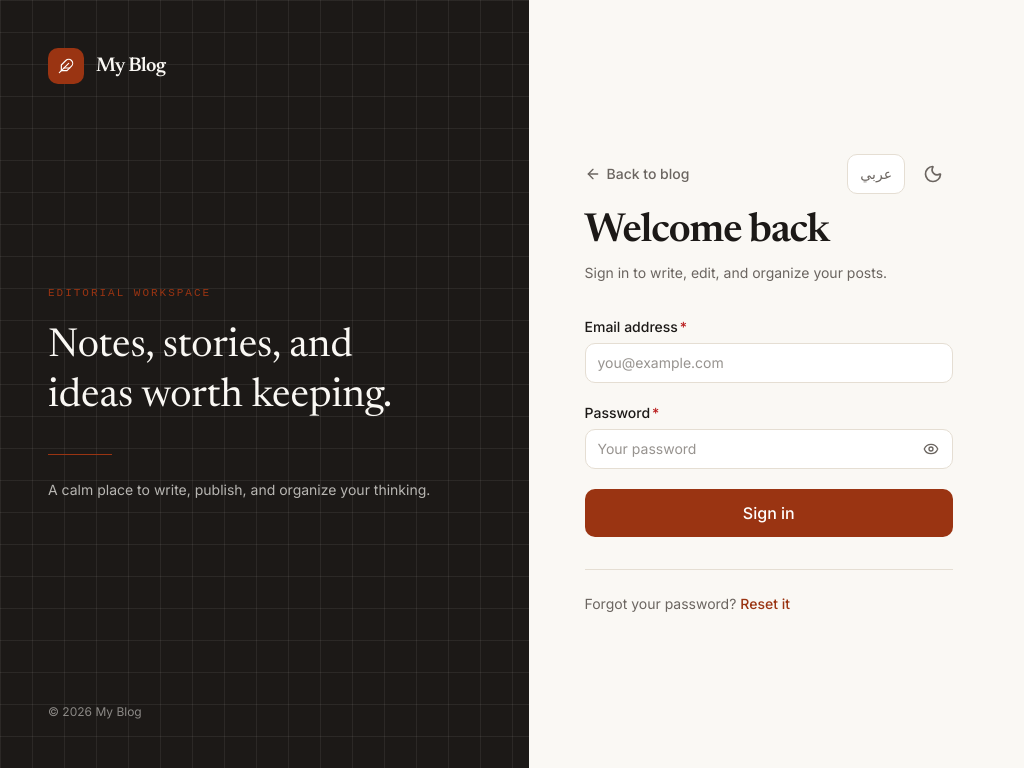
it: Login › shows a generic error and stays on the page when credentials are rejected
This screenshot has width=1024, height=768.
Step 1. Type "writer@example.test" into the field labelled "Email address*" → (769, 363), box [584,343,953,383]
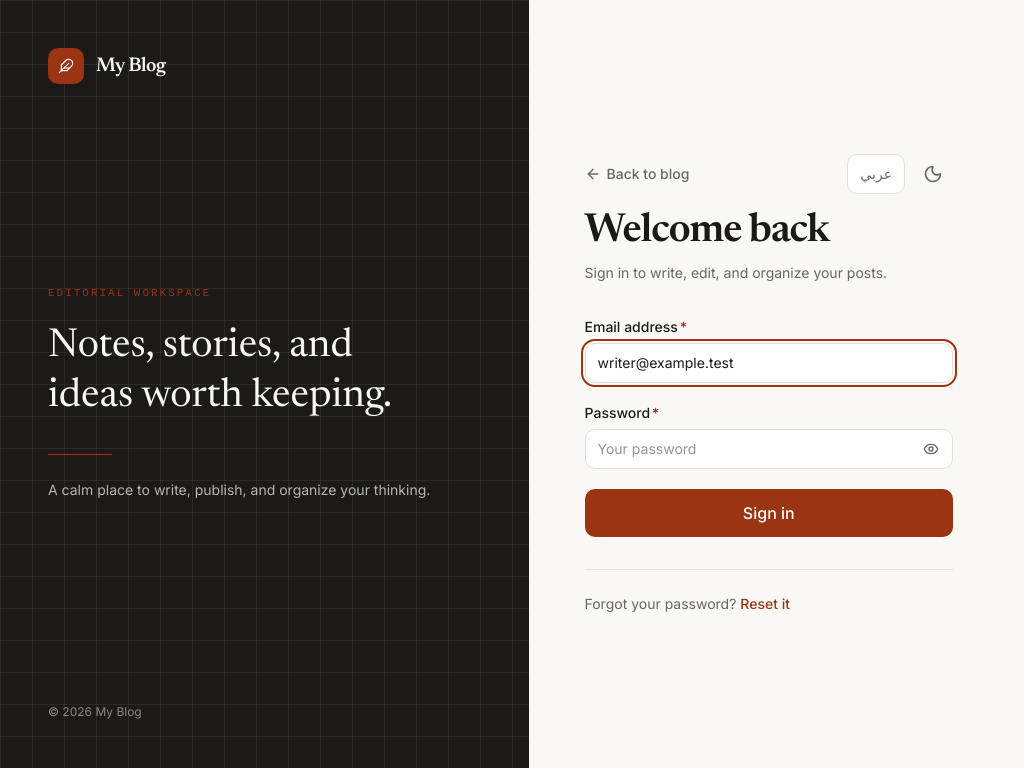
Step 2. Type "secret-password" into the password field labelled "Password*" → (769, 449), box [584,429,953,469]
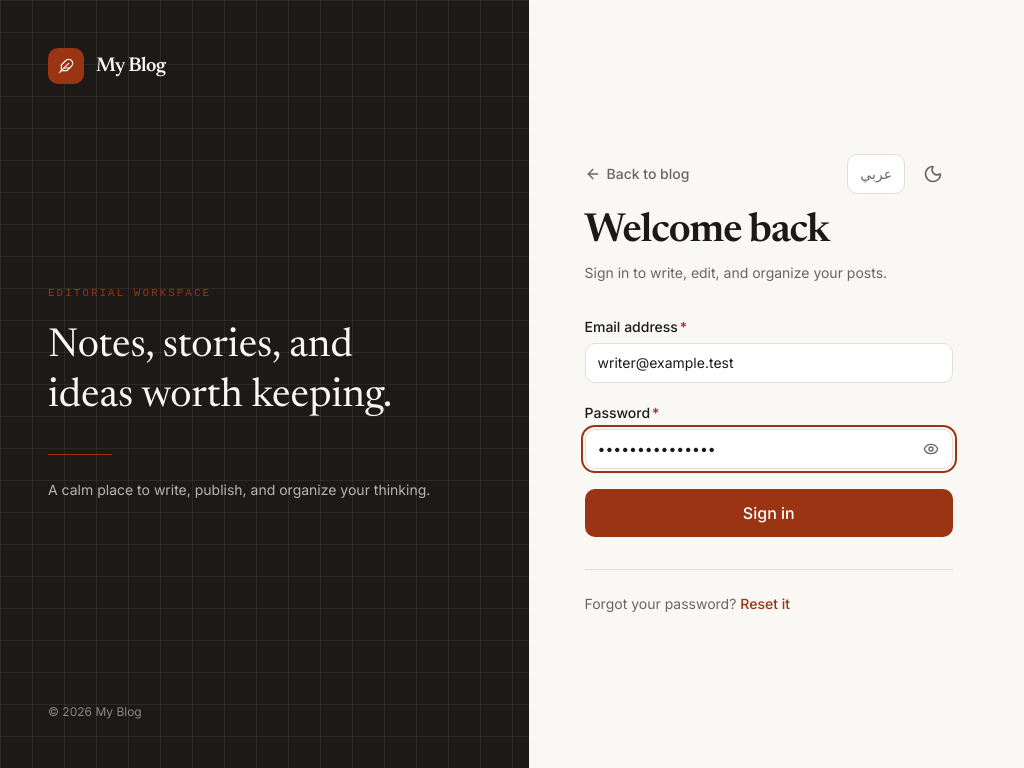
Step 3. Click the button "Sign in" → (769, 513), box [584,489,953,537]
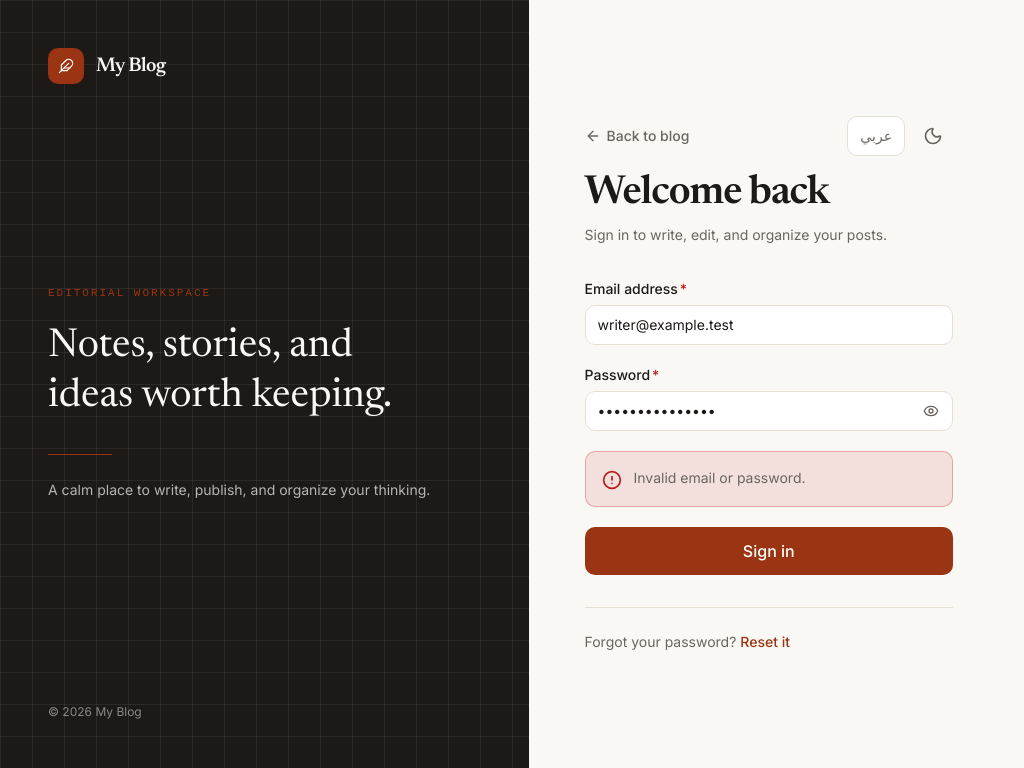
Expected: the heading "Welcome back" is shown, [584,174,829,214]
Expected: the message reads "Invalid email or password.", [634,469,806,486]
